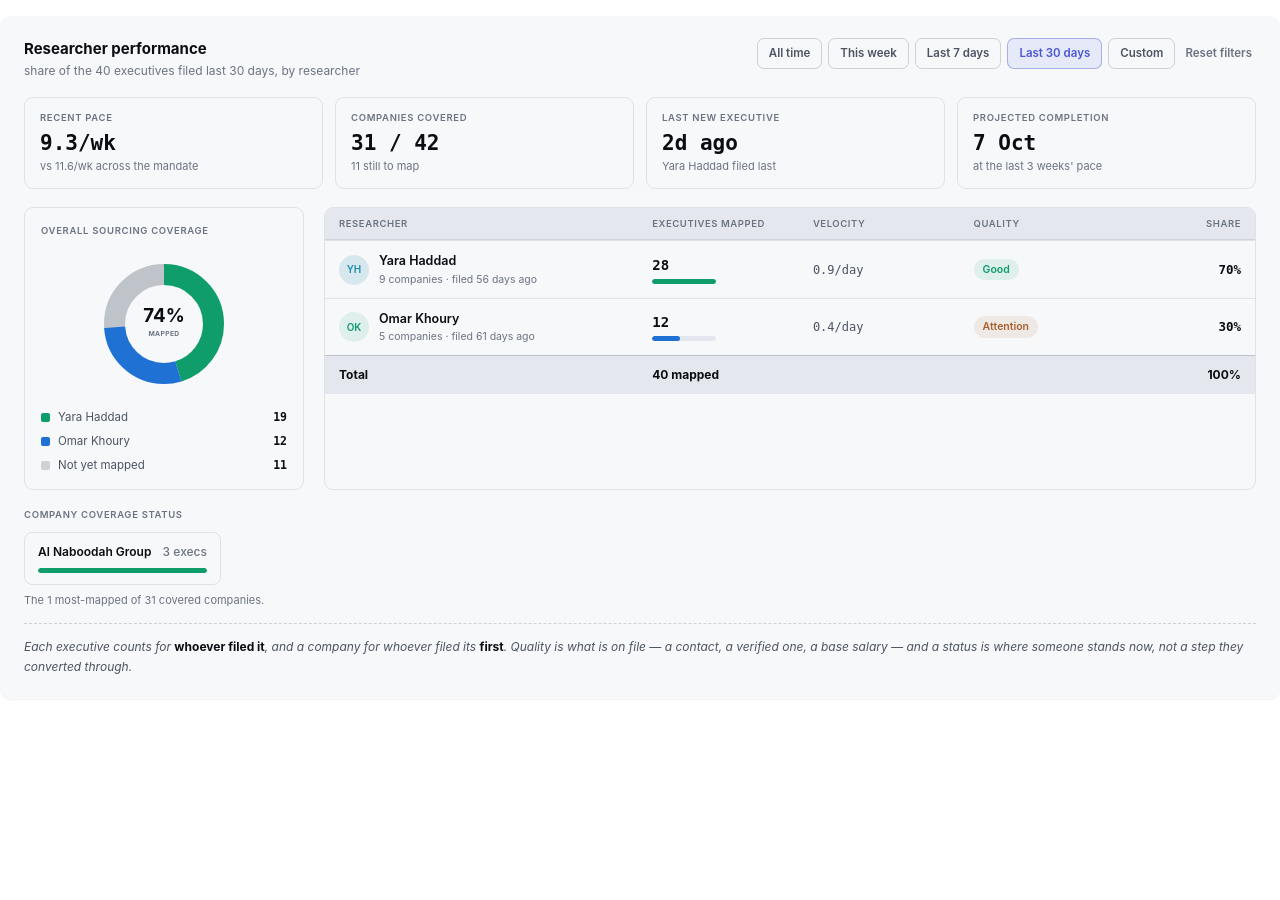
Test: ResearcherPerformanceCard › never sends a custom range whose start is after its end, and says why
This screenshot has width=1280, height=900.
Expected: the button "Omar Khoury" is shown, [325,298,1255,355]
Click the radio button labelled "Custom".
click(1142, 53)  # box [1108,38,1175,69]
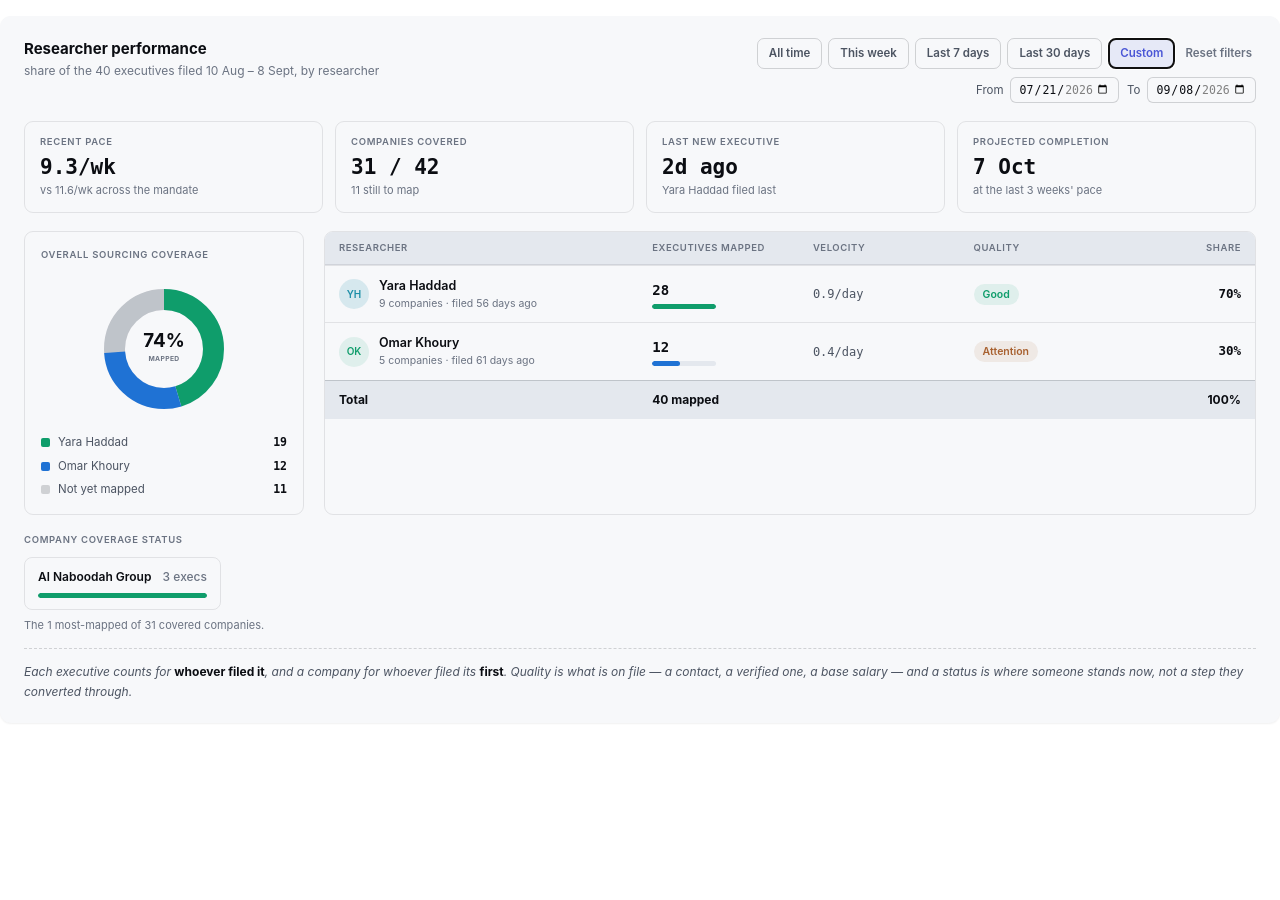
Type "2026-09-05" into the date field labelled "From".
click(1064, 90); type("2026-09-05")  # box [1010,77,1119,103]
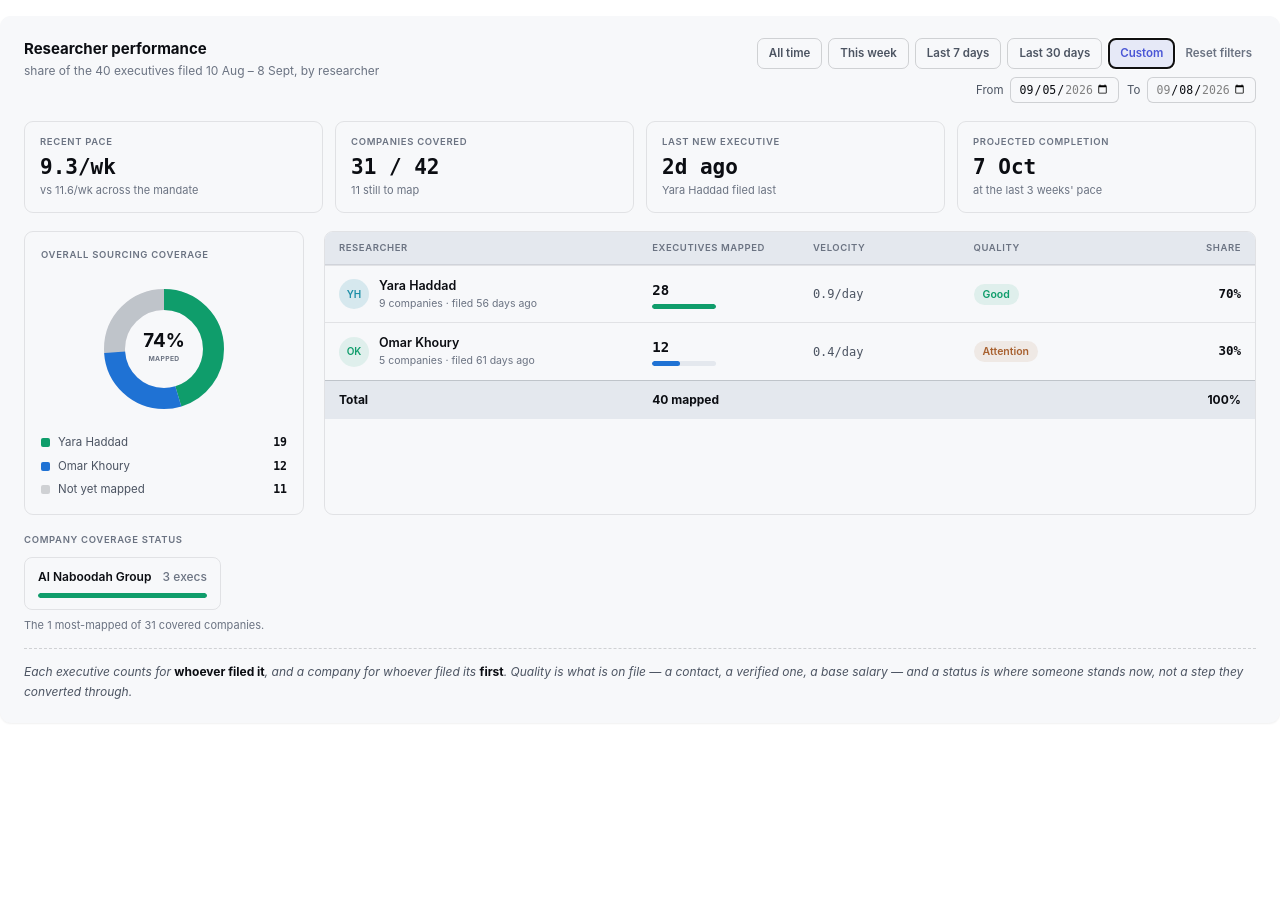
Type "2026-08-01" into the date field labelled "To".
click(1201, 90); type("2026-08-01")  # box [1146,77,1256,103]
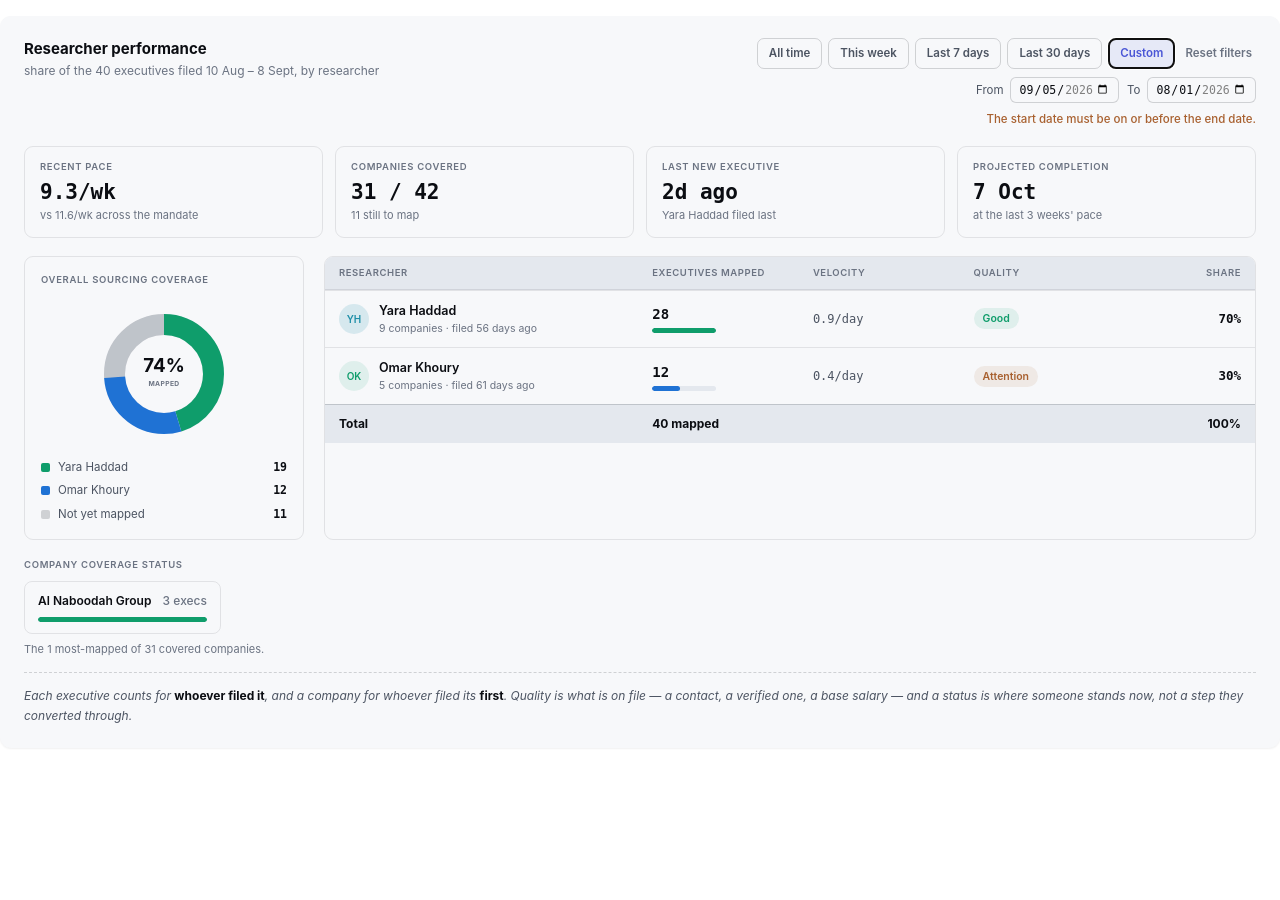
Expected: the button "Omar Khoury" is shown, [325,347,1255,404]
Now the message reads "The start date must be on or before the end date.", box [986,112,1256,126]
